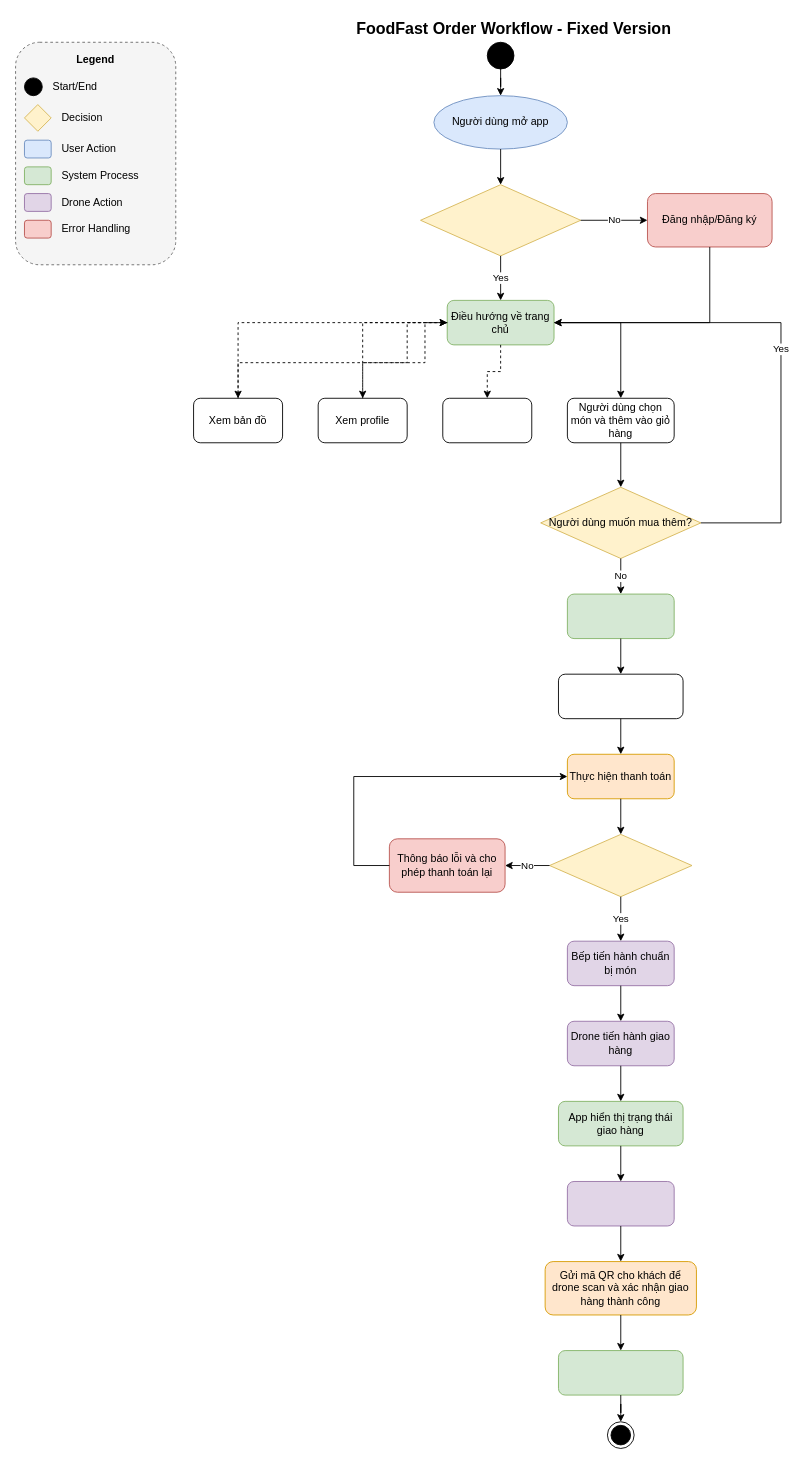
Some shapes in this 805 by 1464 pixel diagram are drawn without their labels. Each missing label, with the centre of its shape:
"Chuyển đến trang checkout" goes at (620,616).
"Giao đơn hàng cho khách" goes at (620,1203).
"Hoàn thành đơn hàng và thông báo đến người dùng" goes at (620,1372).
"Kiểm tra thanh toán" goes at (620,865).
"Người dùng nhập/xác nhận địa chỉ giao hàng" goes at (620,696).
"Người dùng đã đăng nhập?" goes at (500,220).
"Xem giỏ hàng" goes at (487,420).
